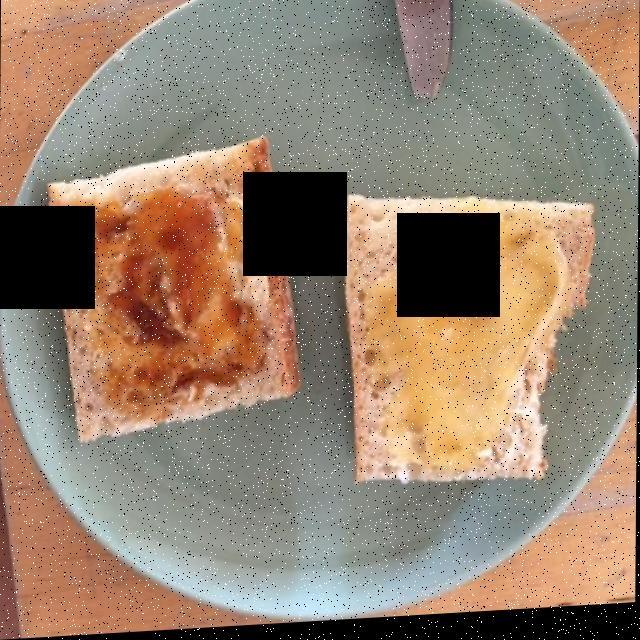bread: (47, 147, 592, 488)
honey: (379, 216, 561, 475)
jam: (75, 194, 265, 419)
